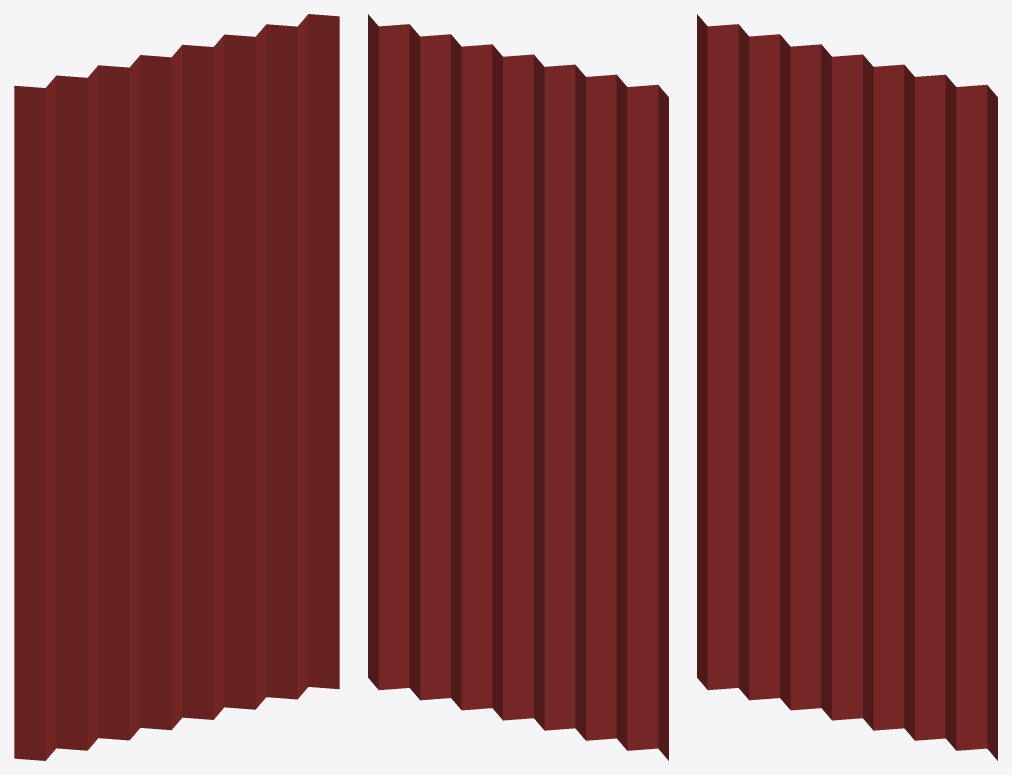
The model's file is enriquezCurtain.obj.
3 views of the same model, side by side, from view 1: azimuth 30°, elevation 25°; view 2: azimuth 150°, elevation 25°; view 3: azimuth 330°, elevation 25° (orthographic).
Parts seen in each view (by area): view 1: Curtain; view 2: Curtain; view 3: Curtain.
Boxes of the visible parts, x1,y1,x2,y2 form: Curtain: [14, 14, 339, 760]; Curtain: [368, 14, 668, 760]; Curtain: [697, 14, 997, 760].
Size of the model in its own units: 1.77 by 3.62 by 0.0996.
